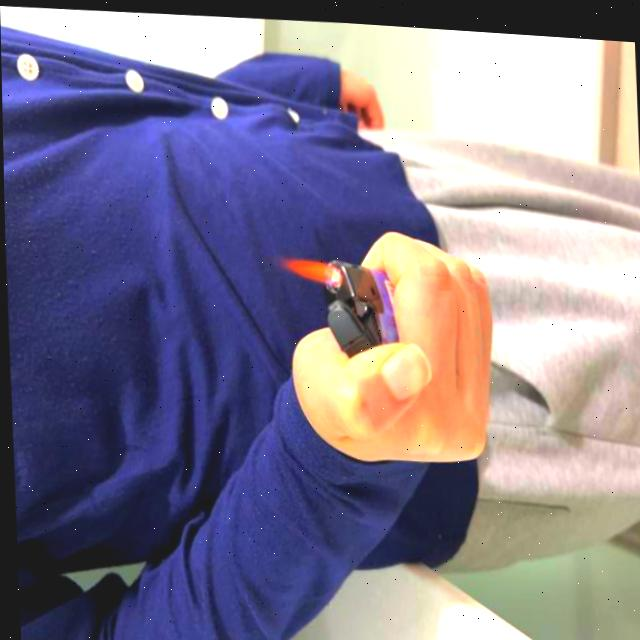Fire: (273, 254, 334, 284)
